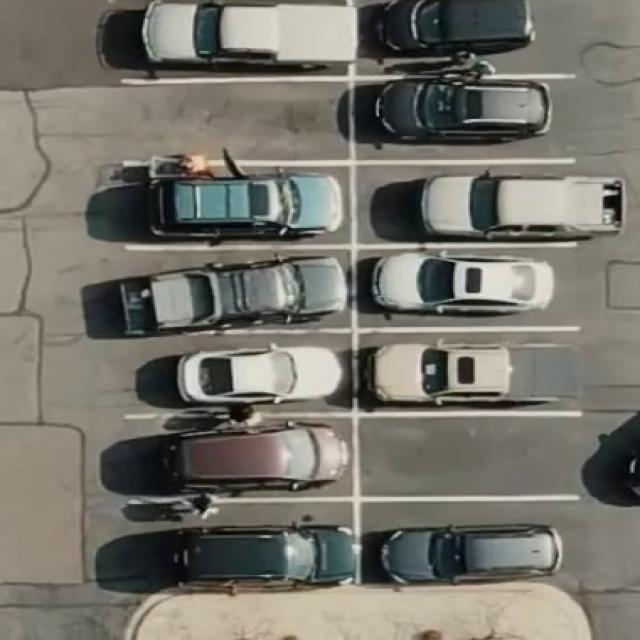empty: (124, 89, 344, 155), (365, 424, 576, 490)
notEmpty: (366, 169, 606, 239), (363, 338, 581, 409), (370, 510, 574, 582), (364, 255, 576, 324), (130, 3, 348, 69), (128, 173, 346, 239), (127, 257, 346, 321), (367, 4, 570, 70), (132, 344, 346, 406), (362, 90, 569, 151), (135, 429, 344, 489), (144, 517, 342, 579)
